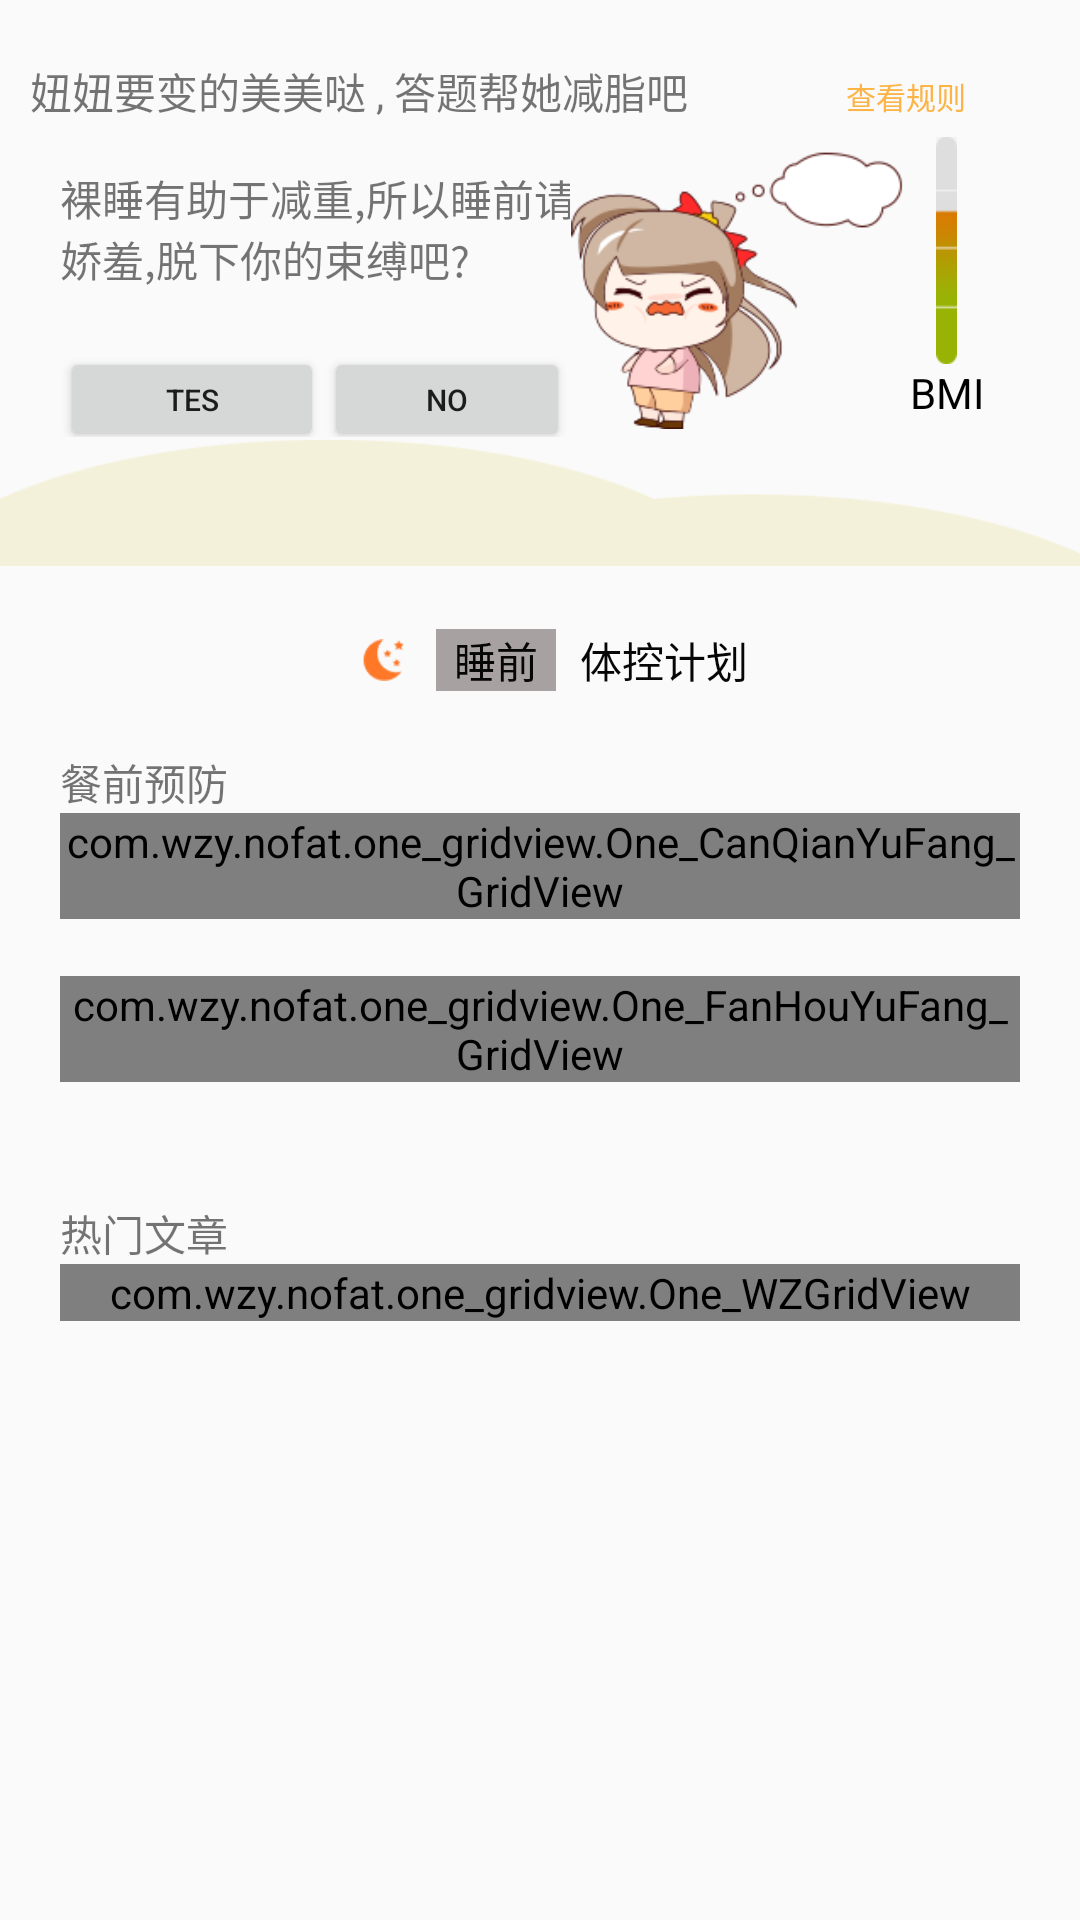

Icons on this 1080w x 1920h Android screen, each with the point to tap as (x,y):
bcp xiaoren: (736,290)
sy shuiqian: (383,660)
